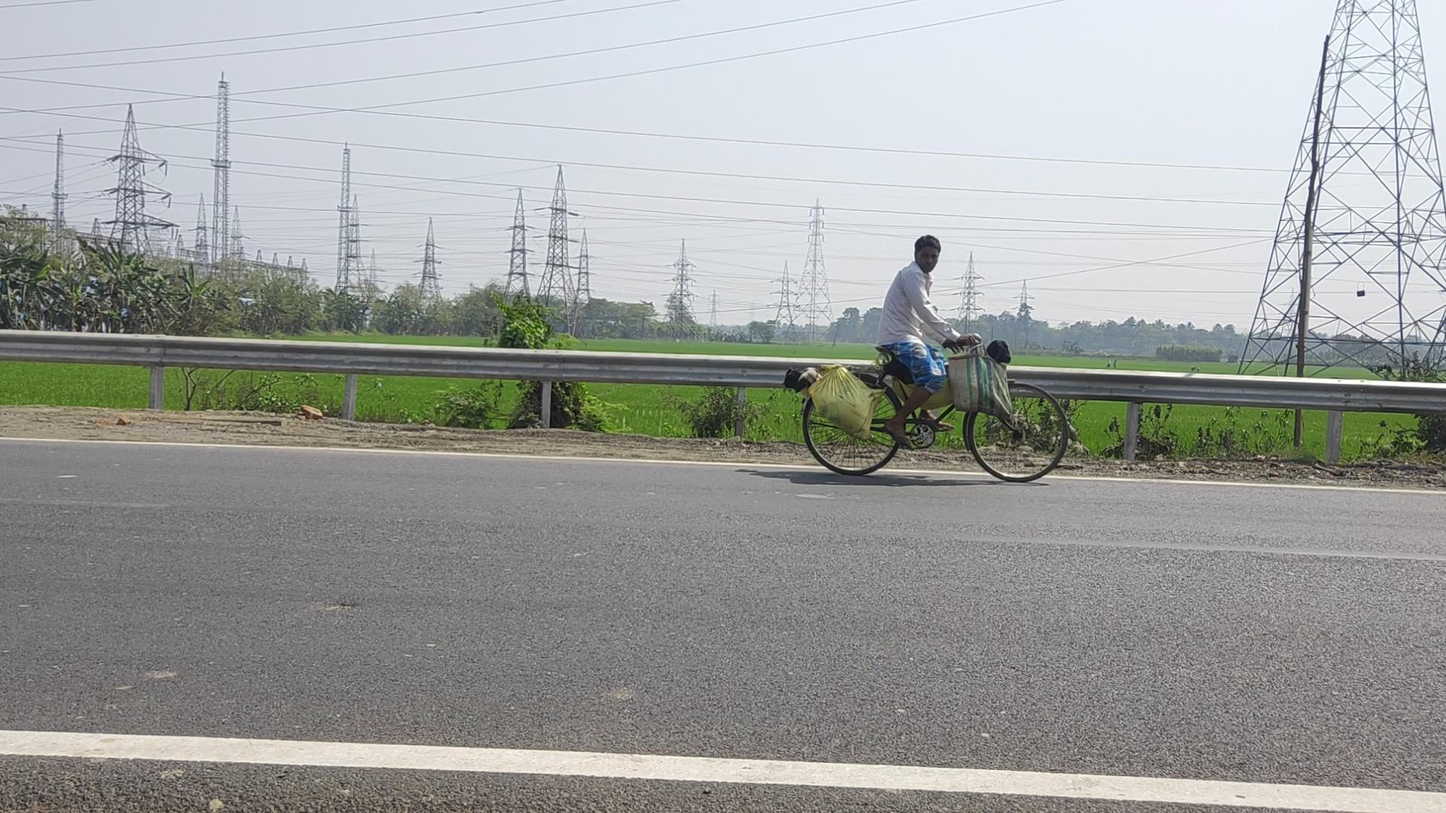bike: (785, 236, 1069, 482)
